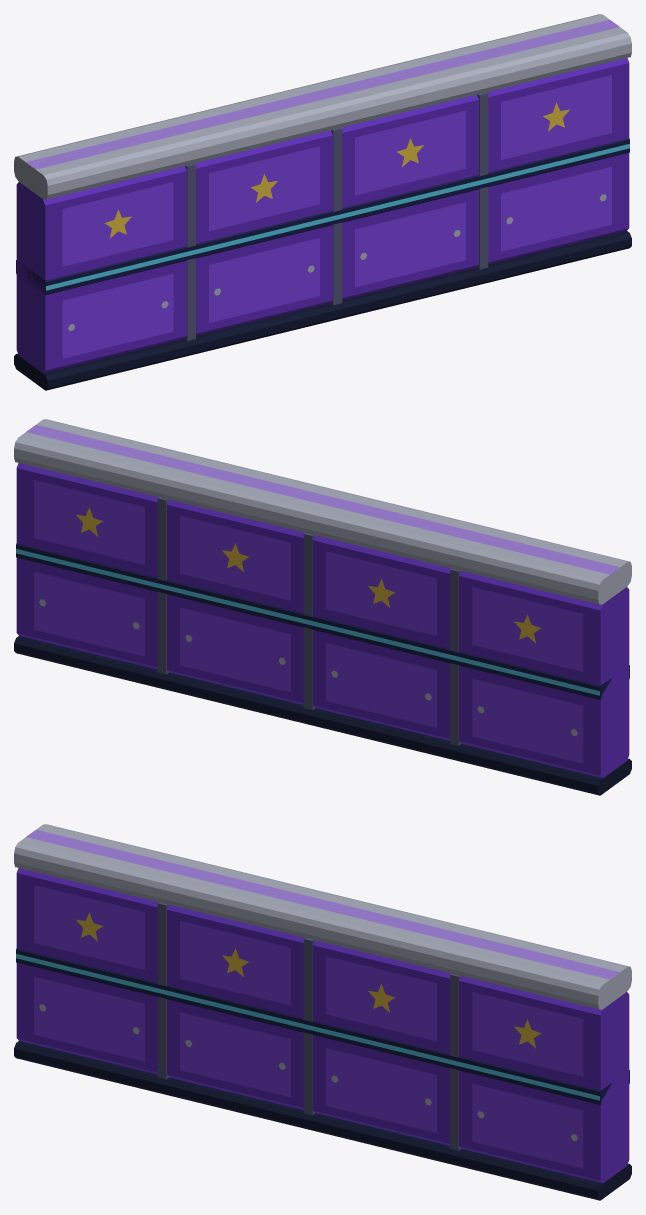
File: space-plotwall2.glb
3 renders of one model, top to bottom at view 1: azimuth 30°, elevation 25°; view 2: azimuth 150°, elevation 25°; view 3: azimuth 330°, elevation 25°, orthographic.
Visible parts, largest first — view 1: space-plotwall2; view 2: space-plotwall2; view 3: space-plotwall2.
Part boxes in pixels (<box>): space-plotwall2: <box>14,14,631,390</box>; space-plotwall2: <box>14,419,631,795</box>; space-plotwall2: <box>14,824,631,1200</box>.
Size of the model in its own units: 4 by 1.4 by 0.4.
